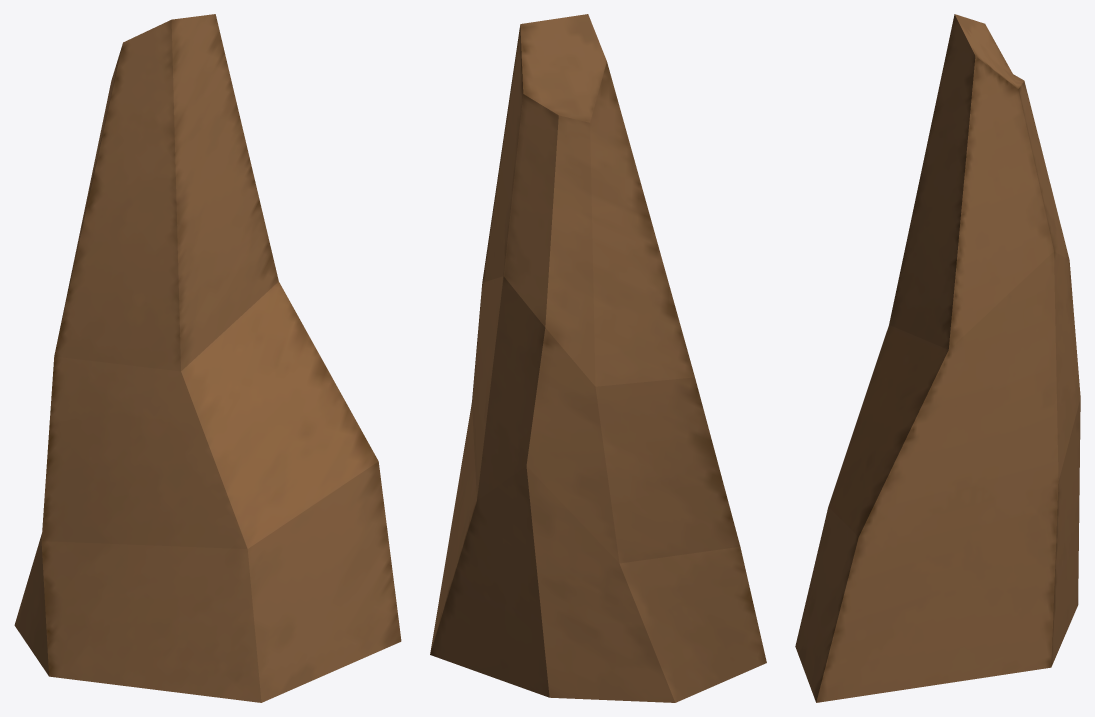
File: Coincraft_Rock_06.fbx
3 views of the same model, side by side, from view 1: azimuth 30°, elevation 25°; view 2: azimuth 150°, elevation 25°; view 3: azimuth 270°, elevation 25° (orthographic). The views are drawn at different scales.
Parts seen in each view (by area): view 1: Rock_06; view 2: Rock_06; view 3: Rock_06.
Boxes of the visible parts, x1,y1,x2,y2 form: Rock_06: (14,14,401,702); Rock_06: (430,14,766,702); Rock_06: (795,14,1080,702).
Size of the model in its own units: 37.61 by 73.34 by 30.22.
1 material, 1 textured.
